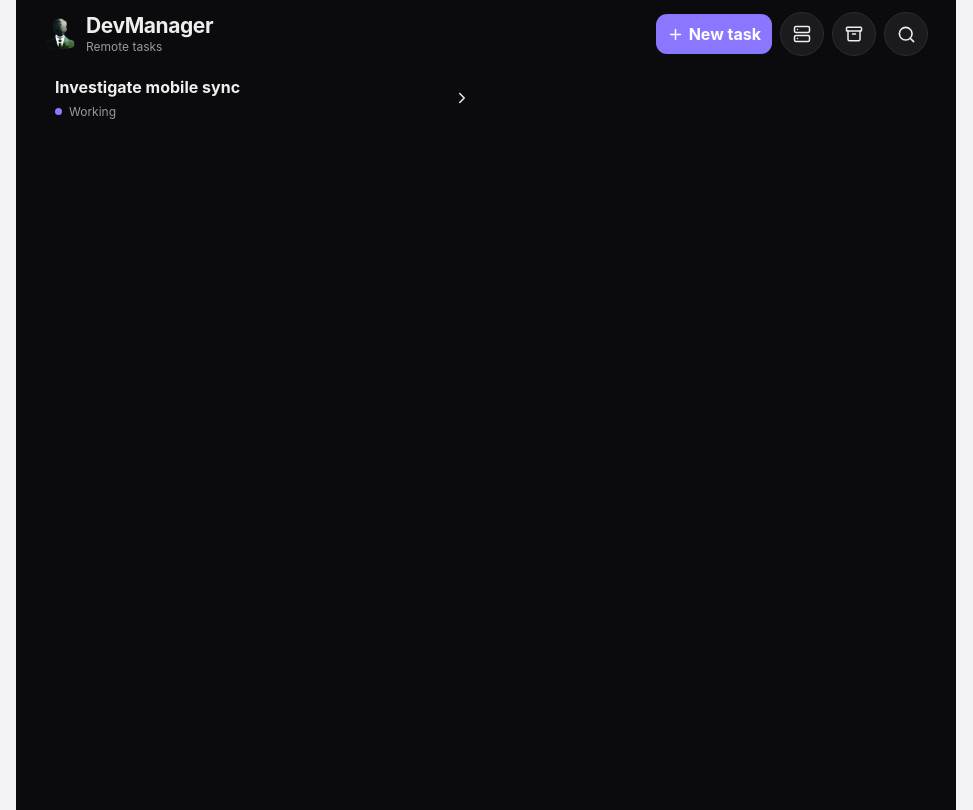
Test case: NativeRemoteApp › opens the owner terminal on demand without replacing the chat draft
Step 1. Click the button "Investigate mobile sync Working" → (148, 87), box [44,62,482,134]
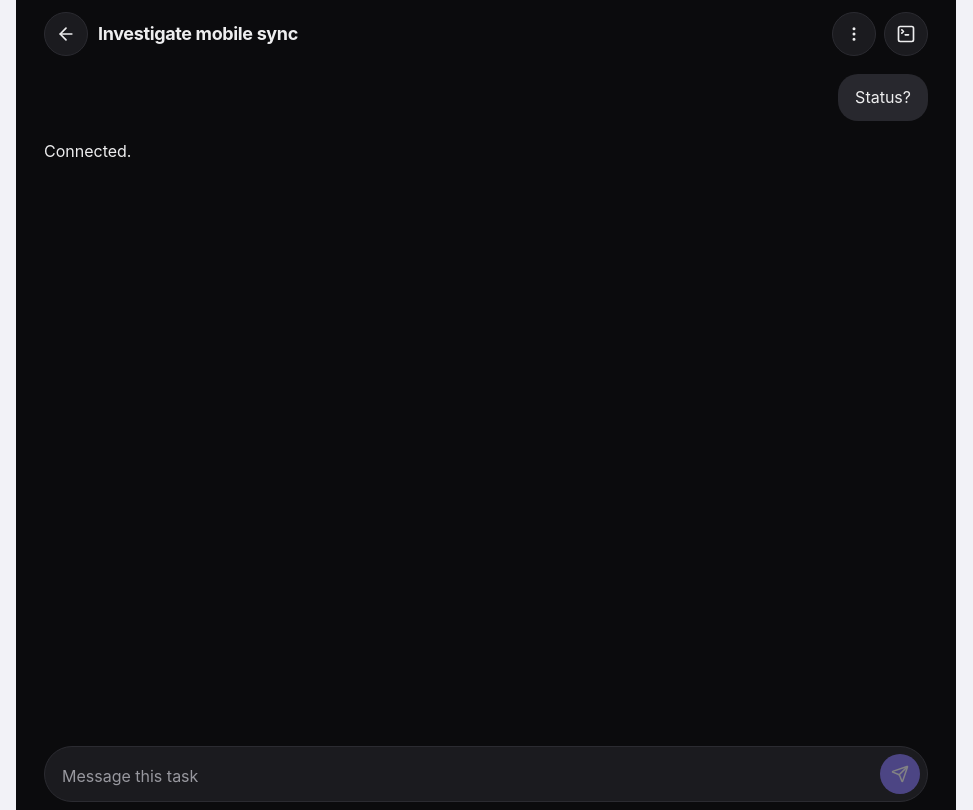
Step 2. Type "unsent" into the text box labelled "Message" → (462, 777), box [52,760,872,794]
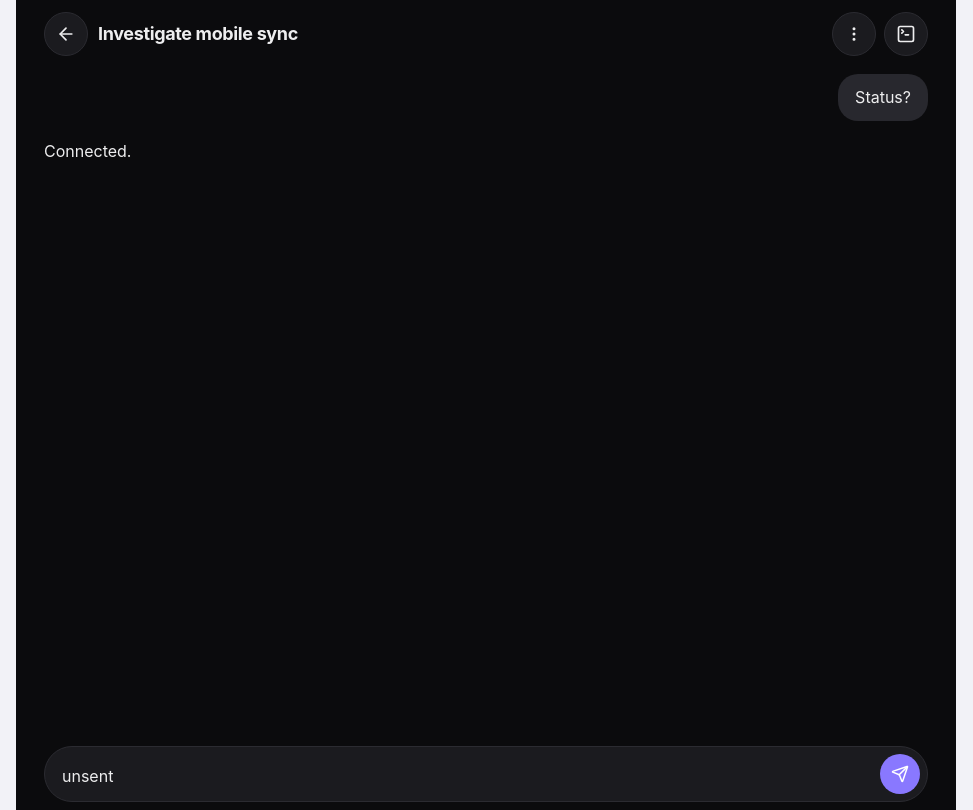
Step 3. Click the button named "Show terminal" → (906, 34), box [884,12,928,56]
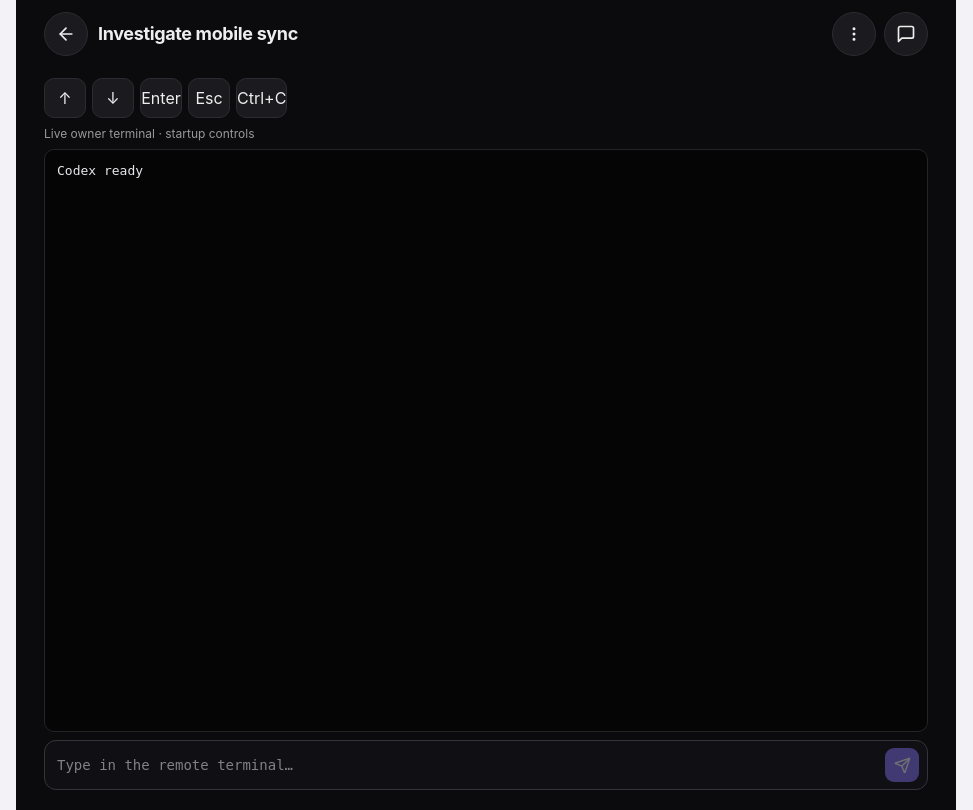
Expected: the text "Codex ready" is shown
Expected: the text box labelled "Message" is gone
Step 4. Click the button with aria-label "Terminal enter" → (161, 98), box [140,78,182,118]
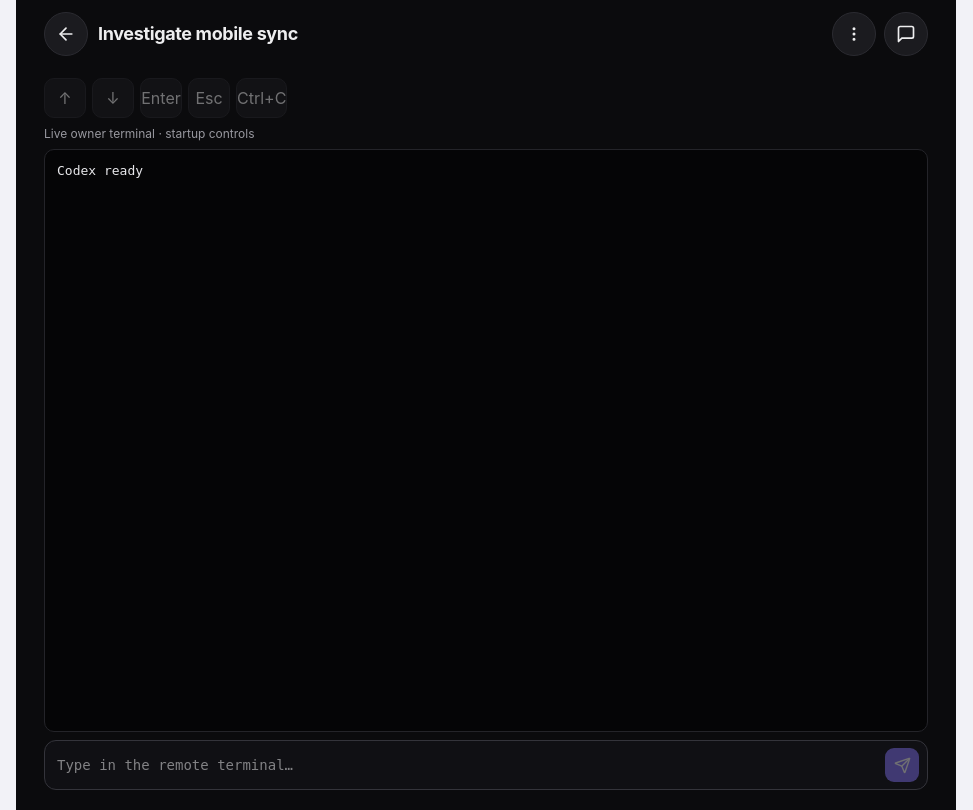
Step 5. Click the button named "Show conversation" → (906, 34), box [884,12,928,56]
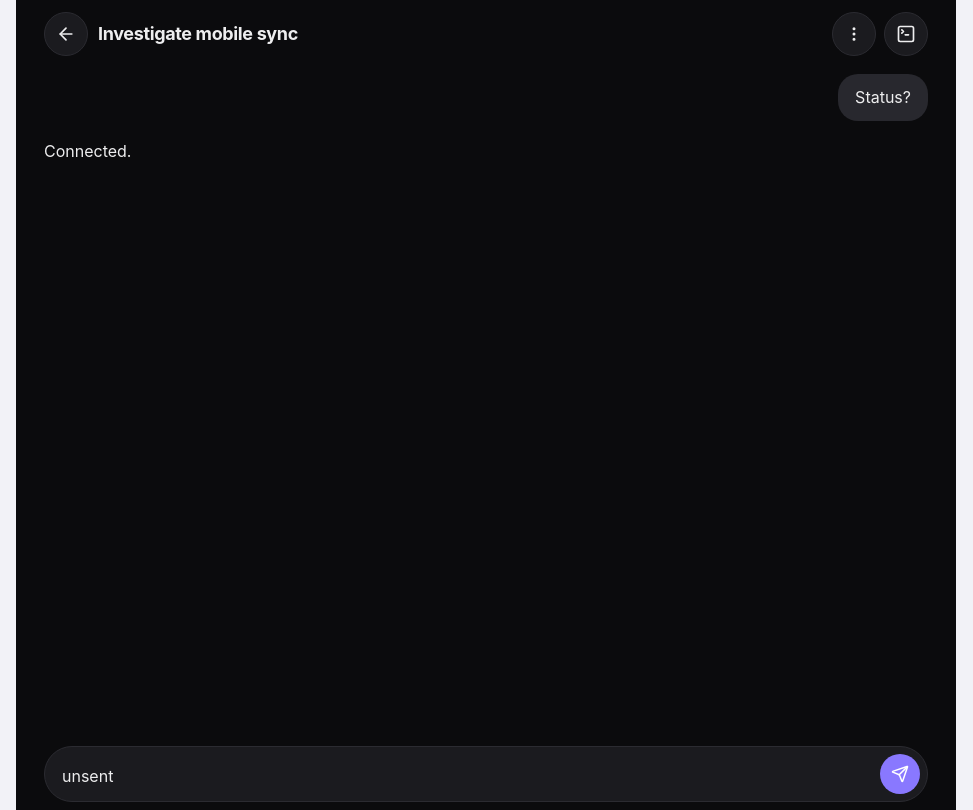
Expected: the text box named "Message" holds "unsent", [52,760,872,794]
